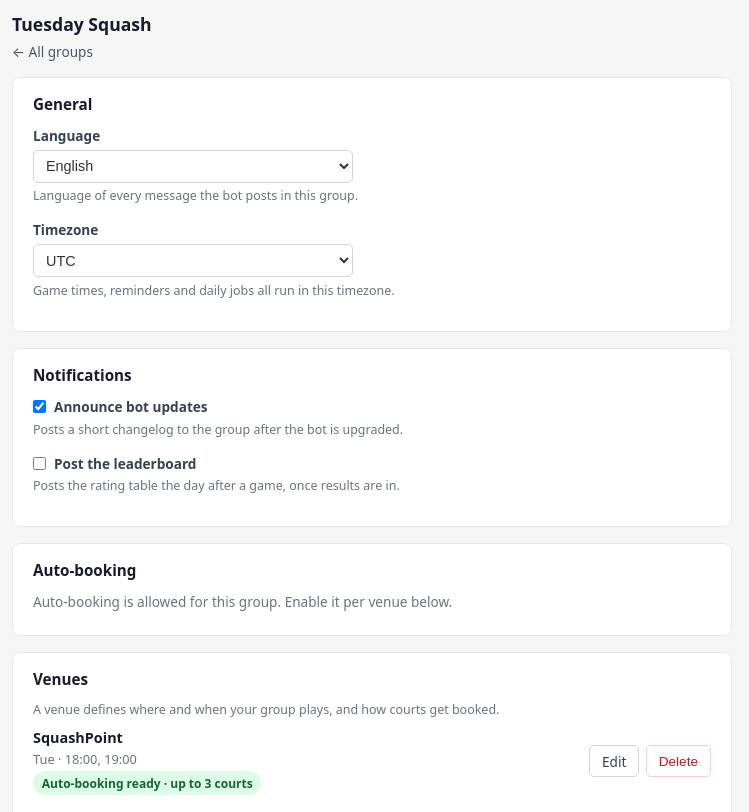
Test: GroupSettingsPage › surfaces a 409 when a venue cannot be deleted
Click the button "Delete" at coordinates (678, 761), box [646,745,711,777]
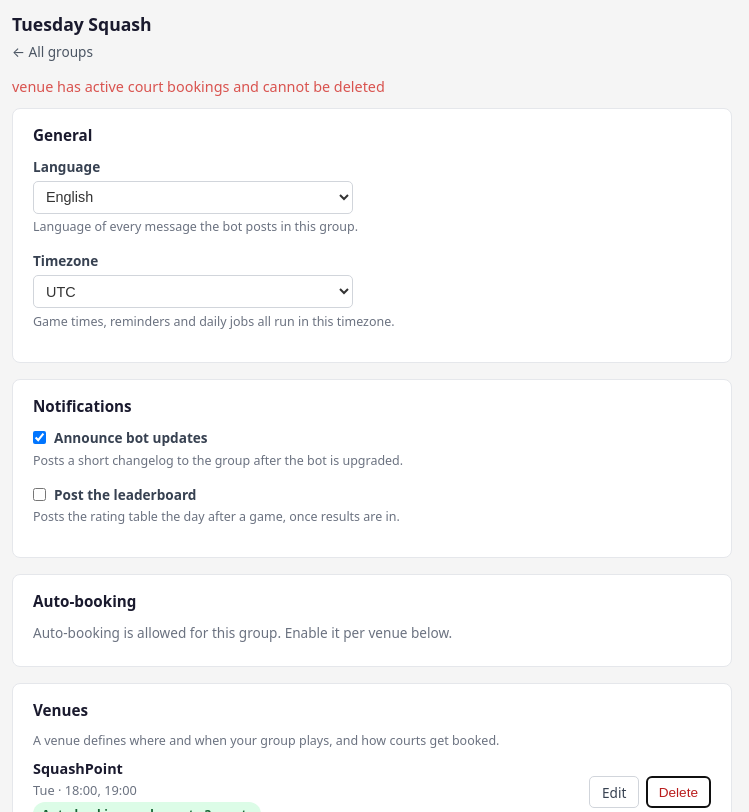
Expected: the text "venue has active court bookings and cannot be deleted" is shown, [12,77,385,96]
